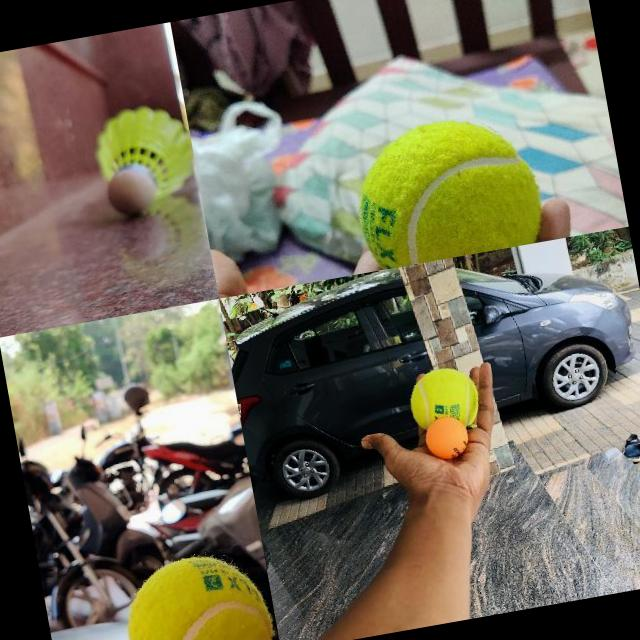Tennis Ball: (342, 104, 548, 271), (115, 543, 277, 640), (405, 364, 480, 422)
